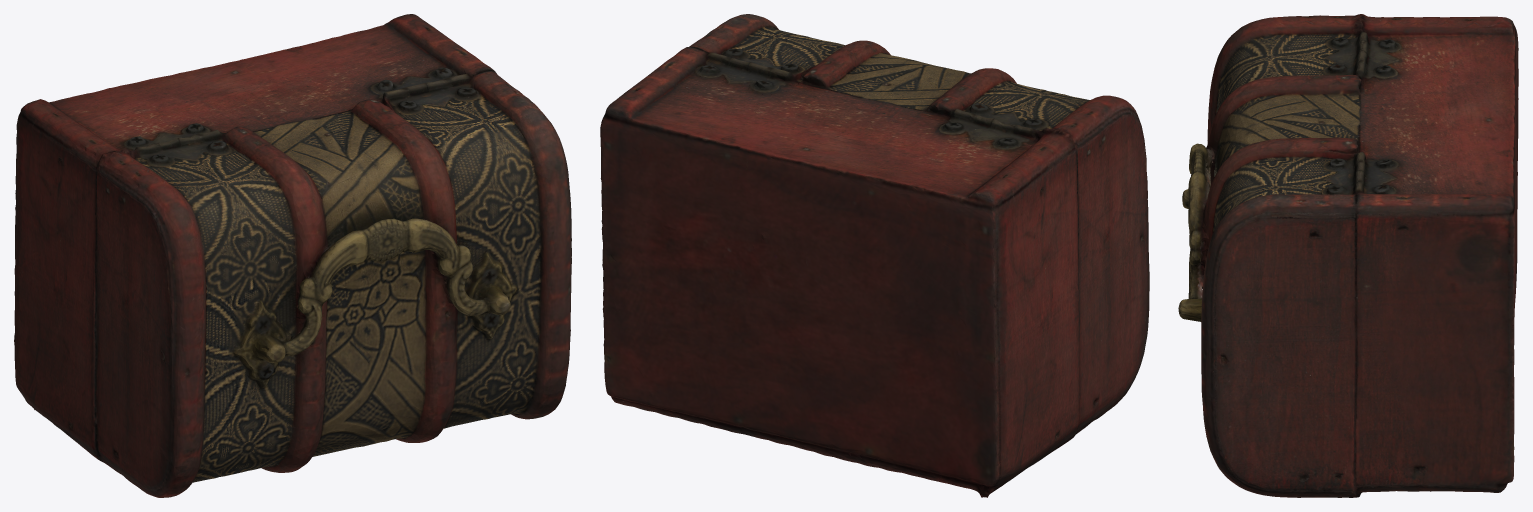
File: CofreLow.obj
The picture shows the model from 3 angles, left to right: view 1: azimuth 30°, elevation 25°; view 2: azimuth 150°, elevation 25°; view 3: azimuth 270°, elevation 25°; orthographic projection. The views are drawn at different scales.
Bounding box in the file's own units: 3.65 × 2.89 × 2.76.
Materials: 1 (1 with a texture image).
